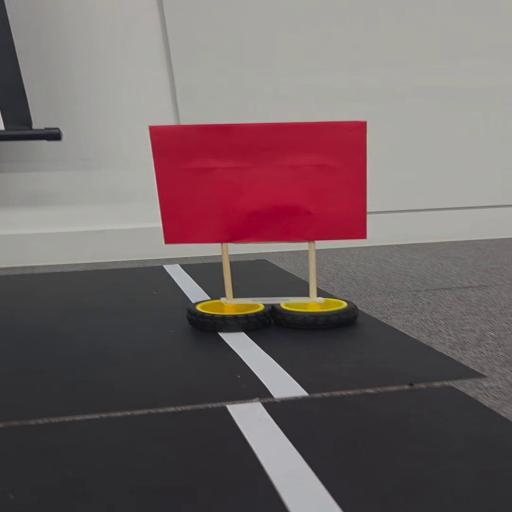Sign_A: (141, 118, 386, 326)
